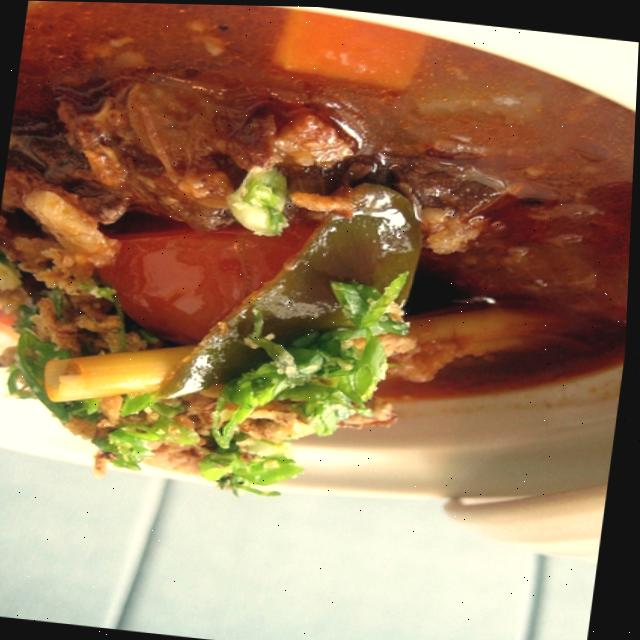汤锅炖物: (0, 0, 616, 560)
